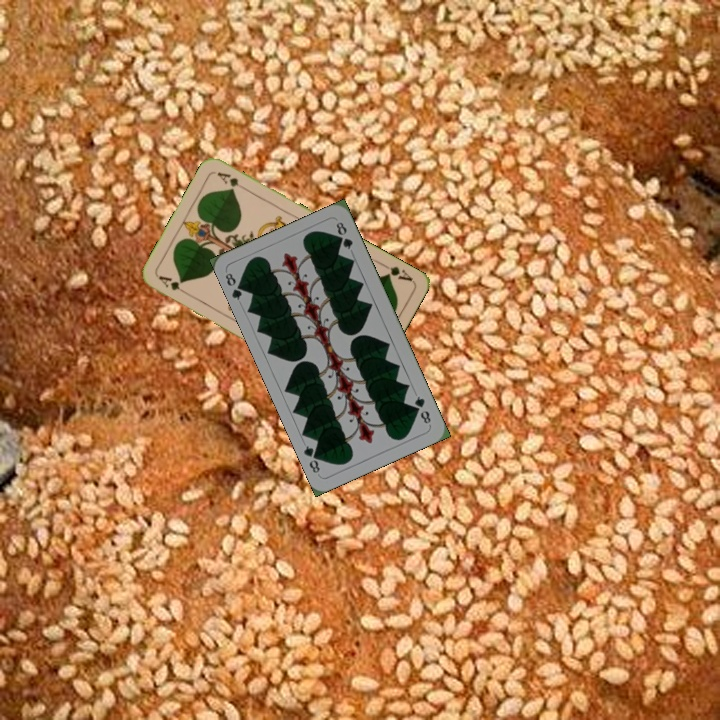G8: (221, 269, 248, 303), (410, 392, 434, 426)
GA: (377, 259, 416, 284), (155, 271, 191, 298)
